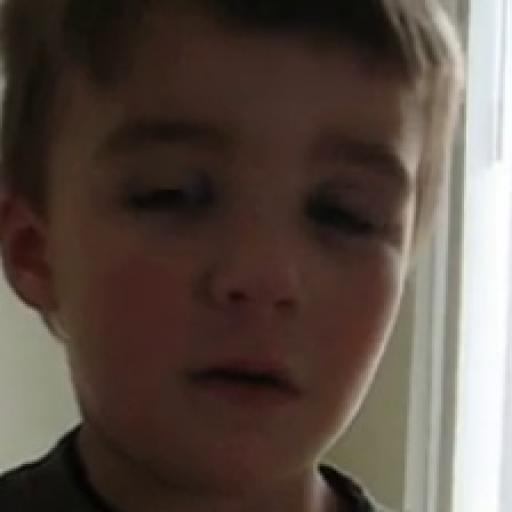Autism: (40, 6, 492, 512)
